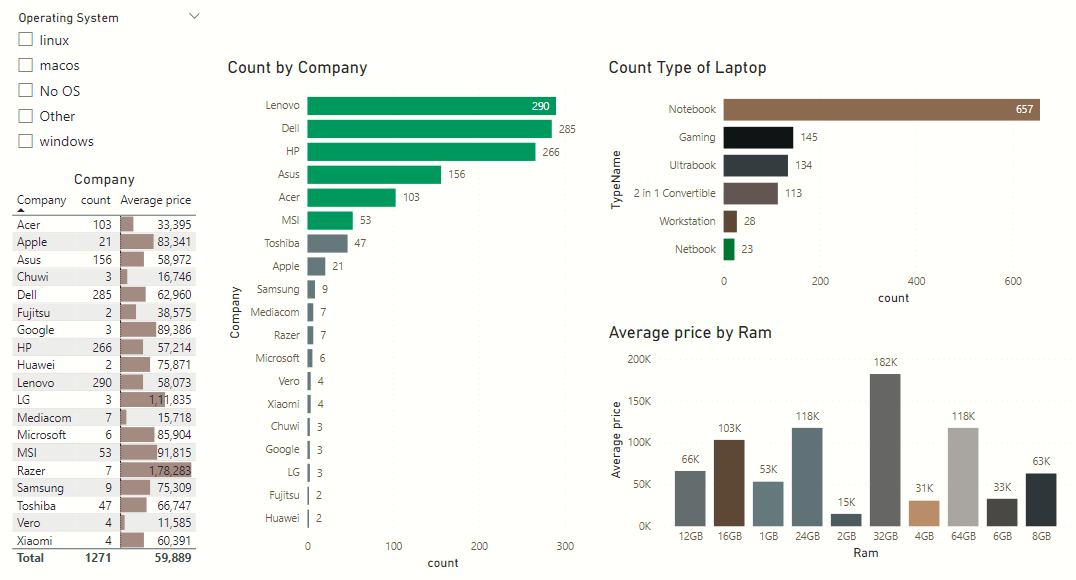

The page's visual inventory and layout, read from the dashboard file:
{"tool":"powerbi","page":{"name":"Specifications Overview","canvas":[1280,720],"ordinal":1},"visuals":[{"type":"clusteredBarChart","title":"Count Type of Laptop","fields":{"Category":["laptopdata.TypeName"],"Y":["laptop_data.count"]},"box":[696.1,88.9,538.9,287.1],"z":0},{"type":"clusteredBarChart","title":"Count by Company","fields":{"Y":["laptop_data.count"],"Category":["laptop_data.Company"]},"box":[262,88.9,420.4,589],"z":1000},{"type":"tableEx","title":"Company ","fields":{"Values":["laptop_data.Company","laptop_data.count","laptop_data.Average price"]},"box":[15.9,217.6,222.2,460.3],"z":3000},{"type":"slicer","fields":{"Values":["laptop_data.Operating System"]},"box":[15.9,30.8,232.4,176.6],"z":5000},{"type":"clusteredColumnChart","fields":{"Category":["laptopdata.Ram"],"Y":["laptopdata.Average price"]},"box":[696.1,390.8,538.9,275.7],"z":6000}]}

Visuals, with their boxes on the page's 1280x720 design canvas (x1, y1, x2, y2). These are canvas units, not pixel positions in the 1076x580 screenshot, which may show the page scaled, cropped or inside an application window:
"Count Type of Laptop" clusteredBarChart: detection(696, 89, 1235, 376)
"Count by Company" clusteredBarChart: detection(262, 89, 682, 678)
"Company " tableEx: detection(16, 218, 238, 678)
slicer - laptop_data.Operating System: detection(16, 31, 248, 207)
clusteredColumnChart - laptopdata.Ram x laptopdata.Average price: detection(696, 391, 1235, 666)
